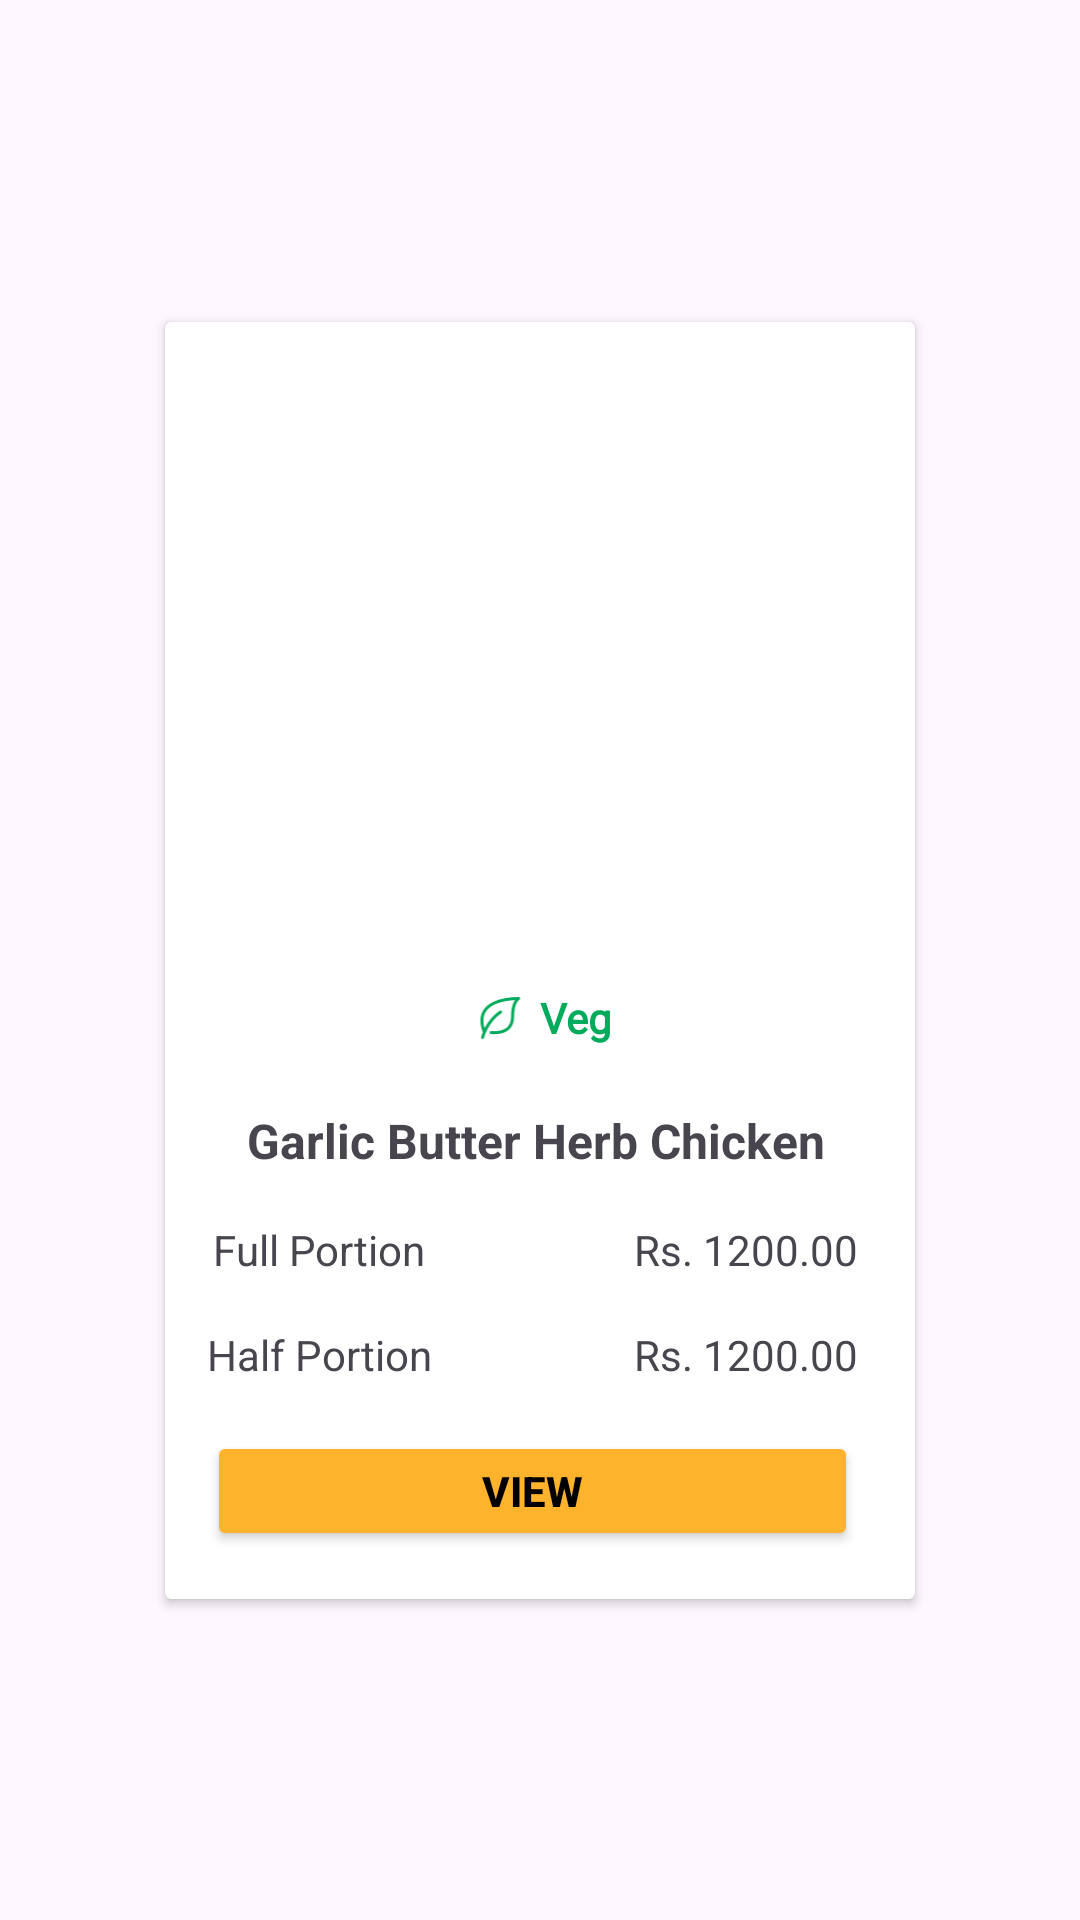

Screen size 1080×1920. Icon name, then its box in pixels as (x1, y1, x2, y2):
leaf: (480, 997, 521, 1039)
